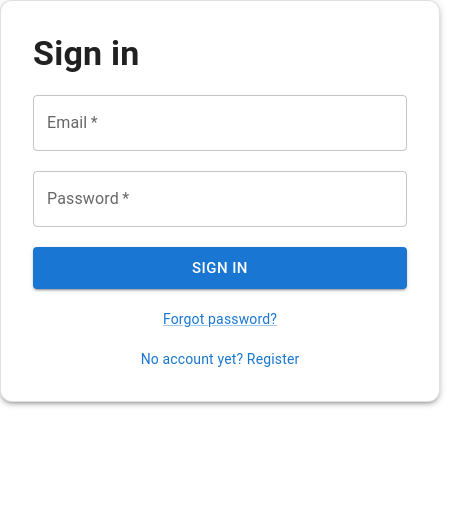
Test case: login error messages › does not blame the password for a server error
Type "player@example.test" into the field labelled "Email *" at (220, 123), box [33,95,407,151]
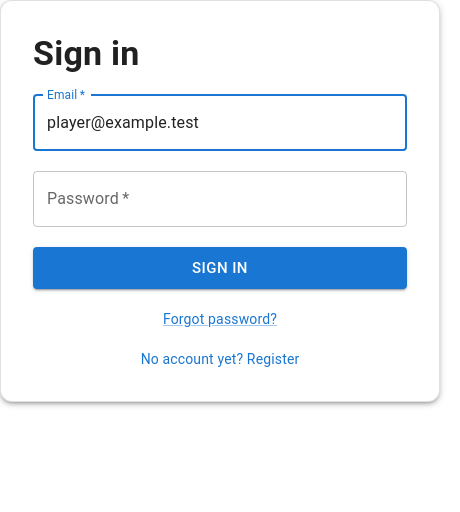
Type "whatever-password" into the password field labelled "Password *" at (220, 199), box [33,171,407,227]
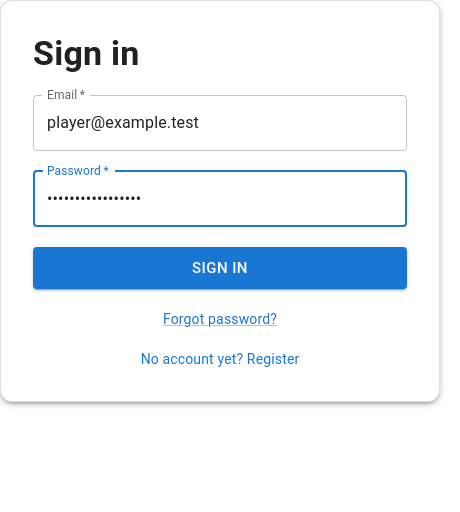
Click the button "Sign in" at (220, 268), box [33,247,407,289]
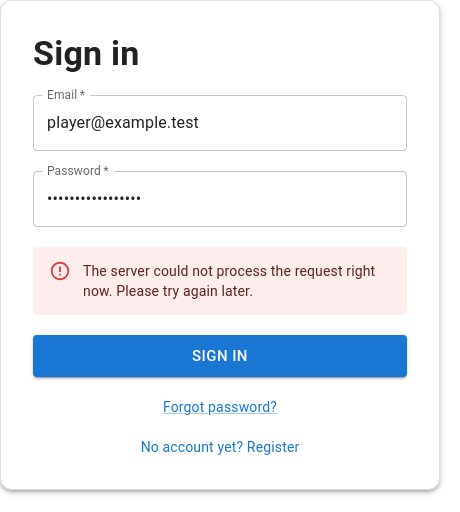
Expected: the message does not show "incorrect", [33,247,407,315]
Expected: the message shows "could not process the request", [83,263,375,299]
